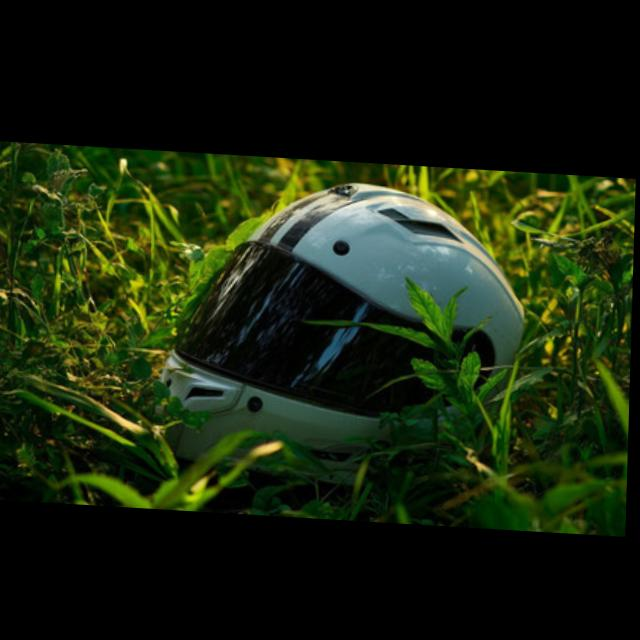motorcycle-helmets: (158, 168, 532, 490)
